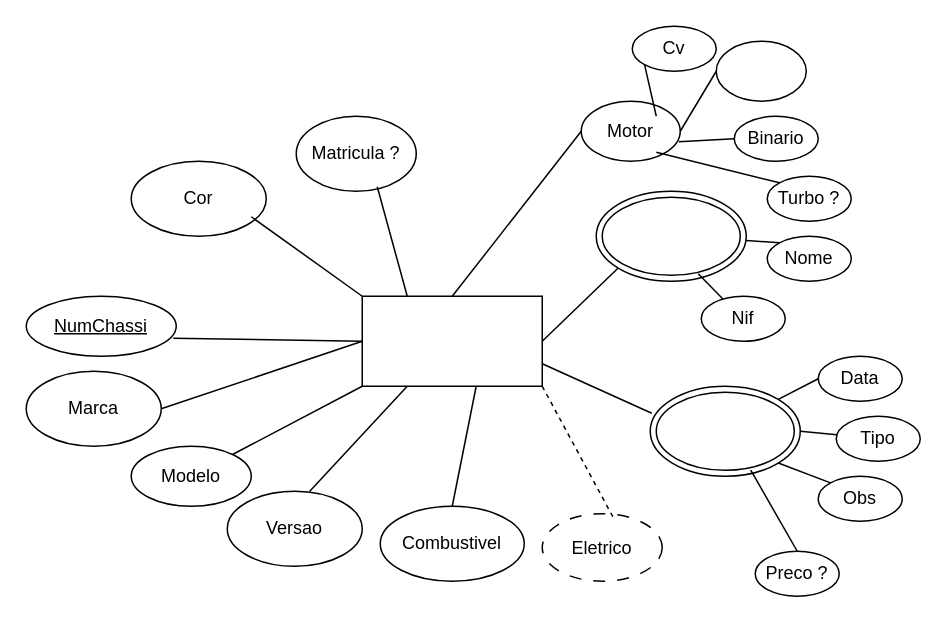
The diagram is 947 pixels wide and 623 high, and some of its shapes have lost their labels. The shapes that lost their labels are listed below. From the top down, each one's centre as x and y in pixels, then its label:
At (760,70): "Cilindrada".
At (670,235): "Dono".
At (451,340): "CARRO".
At (724,430): "Custom".
